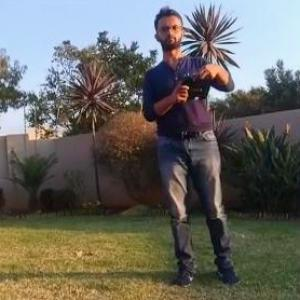follow: (142, 1, 252, 296)
